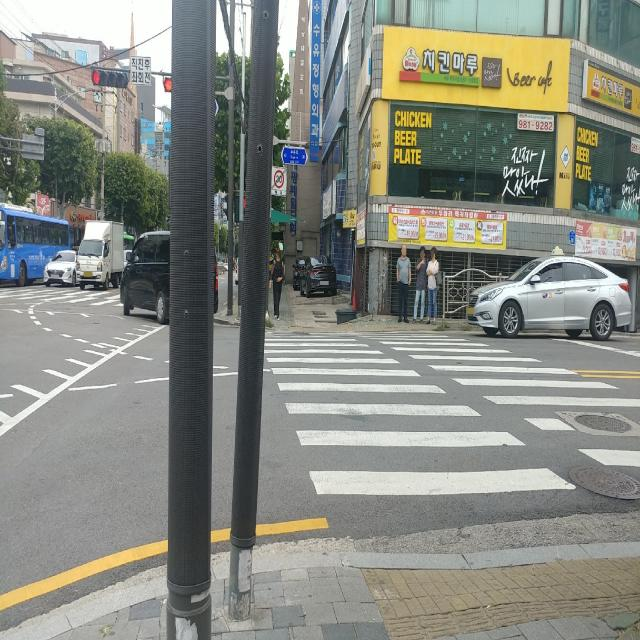횡단보도: (264, 330, 640, 498), (10, 288, 119, 306)
